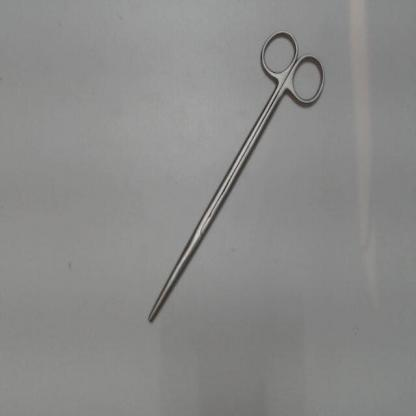9 Metzenbaum Scissors: (144, 23, 332, 330)
